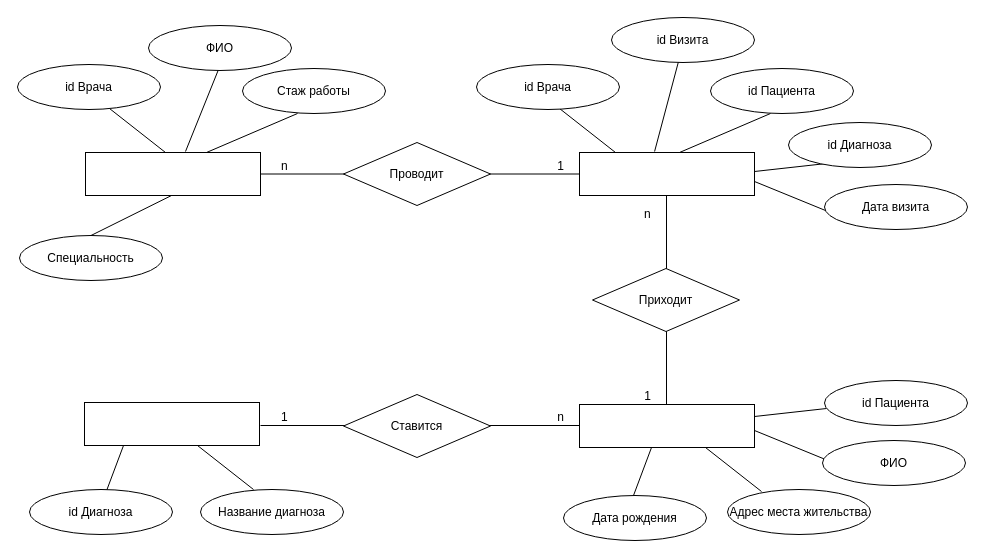
Some shapes in this 985 by 558 pixel diagram are drawn without their labels. The centre of each missing label's shape, as x and y in pixels:
Врач: pixel 172 174
Диагноз: pixel 172 424
Пациент: pixel 666 426
Приём: pixel 666 174
